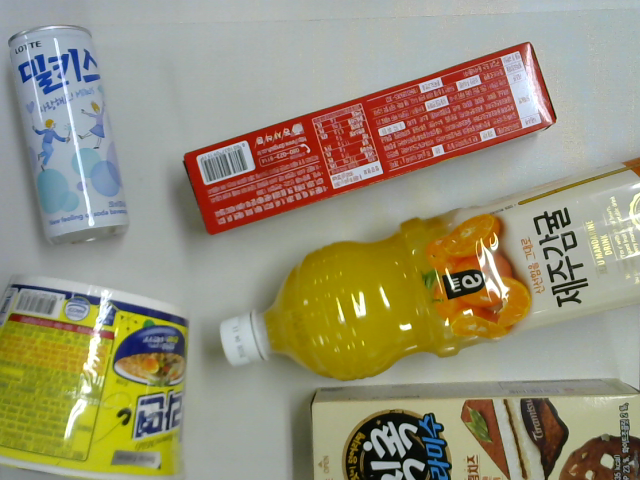Chicchok_Tiramisu: (306, 376, 640, 479)
Jeju_Tangerine_1.5L: (219, 153, 640, 383)
Jinlamyeon_Mild_Taste_Large_Cup: (1, 268, 196, 479)
Milkies_250ml: (3, 23, 133, 249)
Ritz_Cracker: (180, 40, 561, 241)
